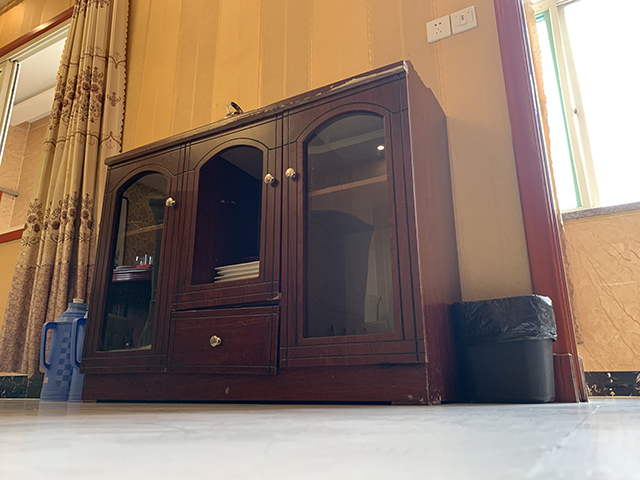cabinet: (79, 58, 464, 407)
curtain: (1, 1, 131, 378)
trashcan: (451, 294, 559, 406)
